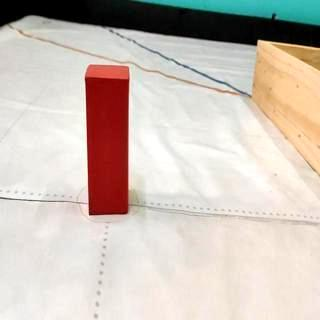redbox: (85, 64, 129, 214)
